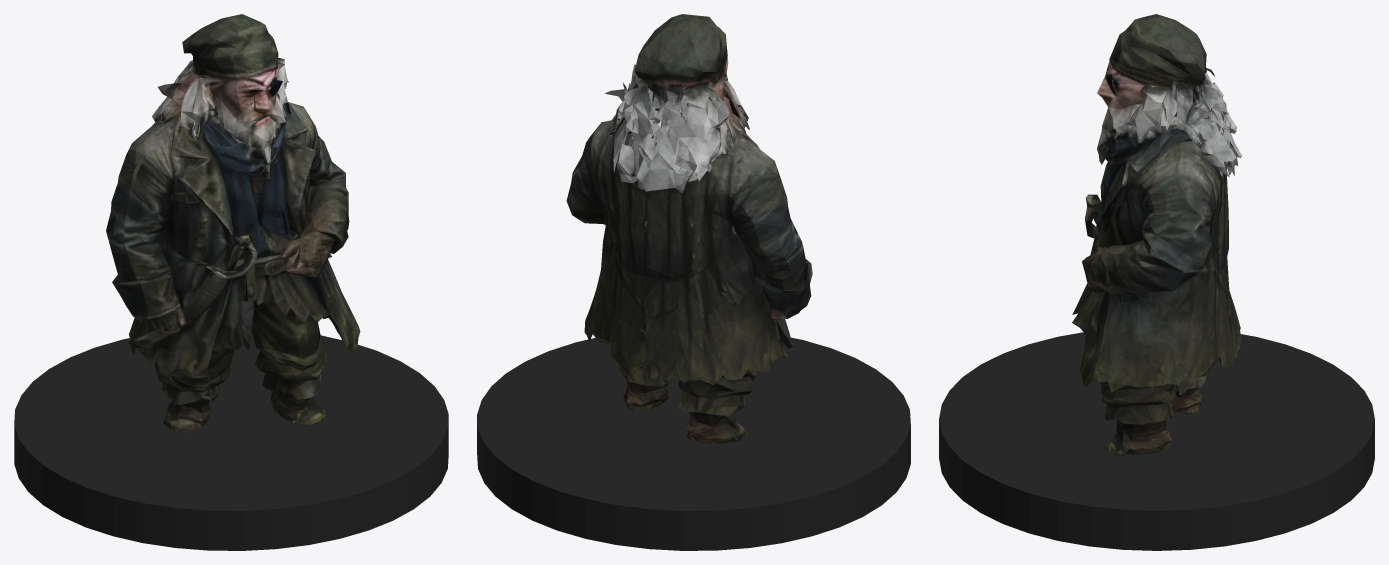
The model's file is gray-beard.glb.
The picture shows the model from 3 angles, left to right: view 1: azimuth 30°, elevation 25°; view 2: azimuth 150°, elevation 25°; view 3: azimuth 270°, elevation 25°; orthographic projection.
Visible parts, largest first — view 1: figure, base; view 2: base, figure; view 3: base, figure.
Part boxes in pixels (<box>): figure: <box>106,14,360,433</box>; base: <box>14,332,448,550</box>; base: <box>477,337,910,550</box>; figure: <box>566,14,812,443</box>; base: <box>939,332,1374,550</box>; figure: <box>1072,14,1241,455</box>.
Bounding box in the file's own units: 1.18 × 1.32 × 1.18.
Materials: 2 (1 with a texture image).
